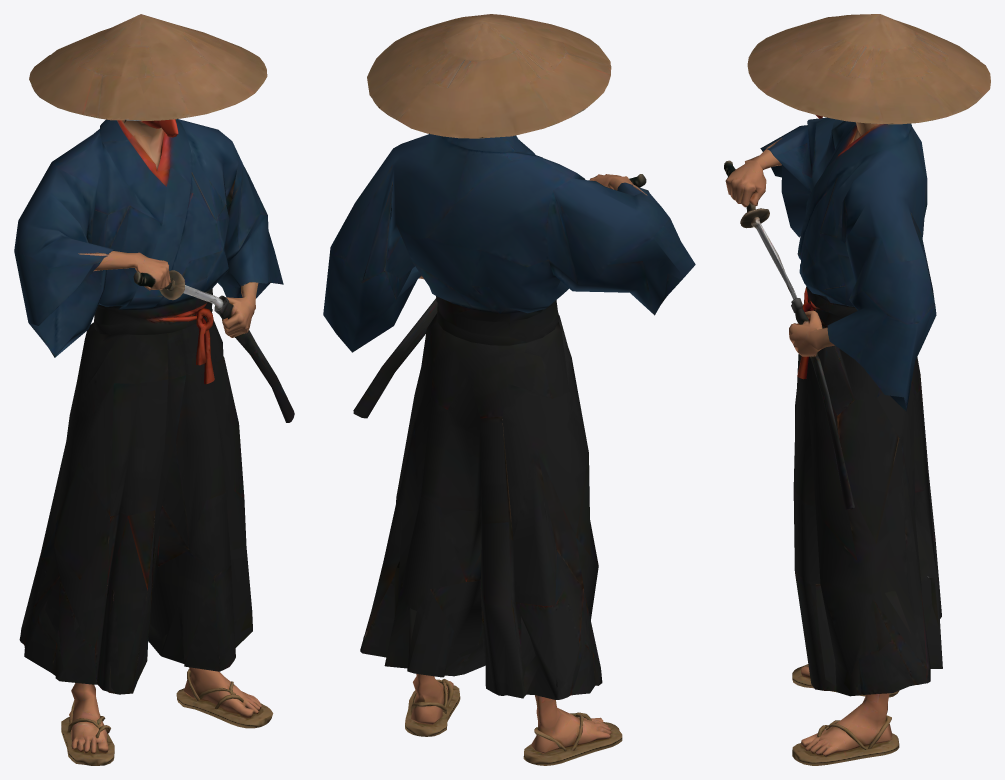
3 views of the same model, side by side, from view 1: azimuth 30°, elevation 25°; view 2: azimuth 150°, elevation 25°; view 3: azimuth 270°, elevation 25° (orthographic). The views are drawn at different scales.
Parts seen in each view (by area): view 1: geometry_0; view 2: geometry_0; view 3: geometry_0.
Part boxes in pixels (<box>): geometry_0: <box>14,14,294,765</box>; geometry_0: <box>323,14,695,765</box>; geometry_0: <box>724,14,990,765</box>.
Bounding box in the file's own units: 0.8056 × 1.8 × 0.6175.
1 material, 1 textured.
